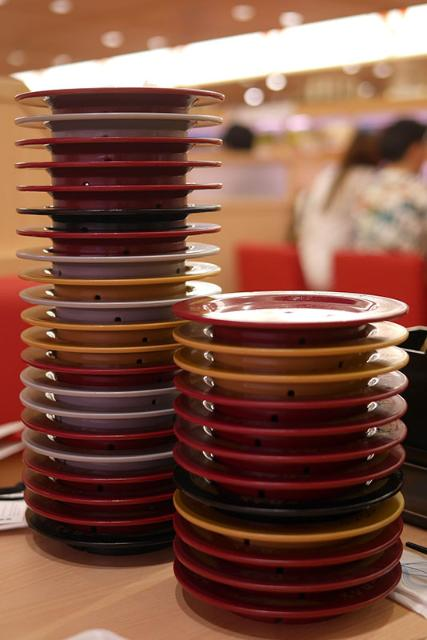janback: (171, 485, 391, 513), (0, 208, 236, 222), (29, 536, 170, 559)
jangold: (172, 352, 413, 388), (176, 324, 400, 358), (20, 268, 232, 294), (177, 513, 384, 539), (14, 340, 168, 358), (12, 320, 175, 337)
janred: (176, 294, 399, 330), (183, 585, 391, 620), (176, 405, 405, 436), (168, 433, 400, 462), (171, 383, 416, 407), (2, 177, 230, 200), (182, 544, 386, 567), (171, 464, 397, 484), (19, 222, 218, 244), (22, 353, 171, 382), (10, 135, 227, 154), (22, 84, 224, 104), (183, 568, 375, 589), (10, 161, 236, 178), (19, 465, 163, 488), (19, 424, 167, 445), (29, 509, 168, 530), (14, 489, 164, 507)
janwhite: (12, 396, 167, 424), (18, 113, 227, 132), (20, 296, 175, 320), (9, 255, 213, 272), (48, 377, 161, 404), (25, 449, 170, 463)
